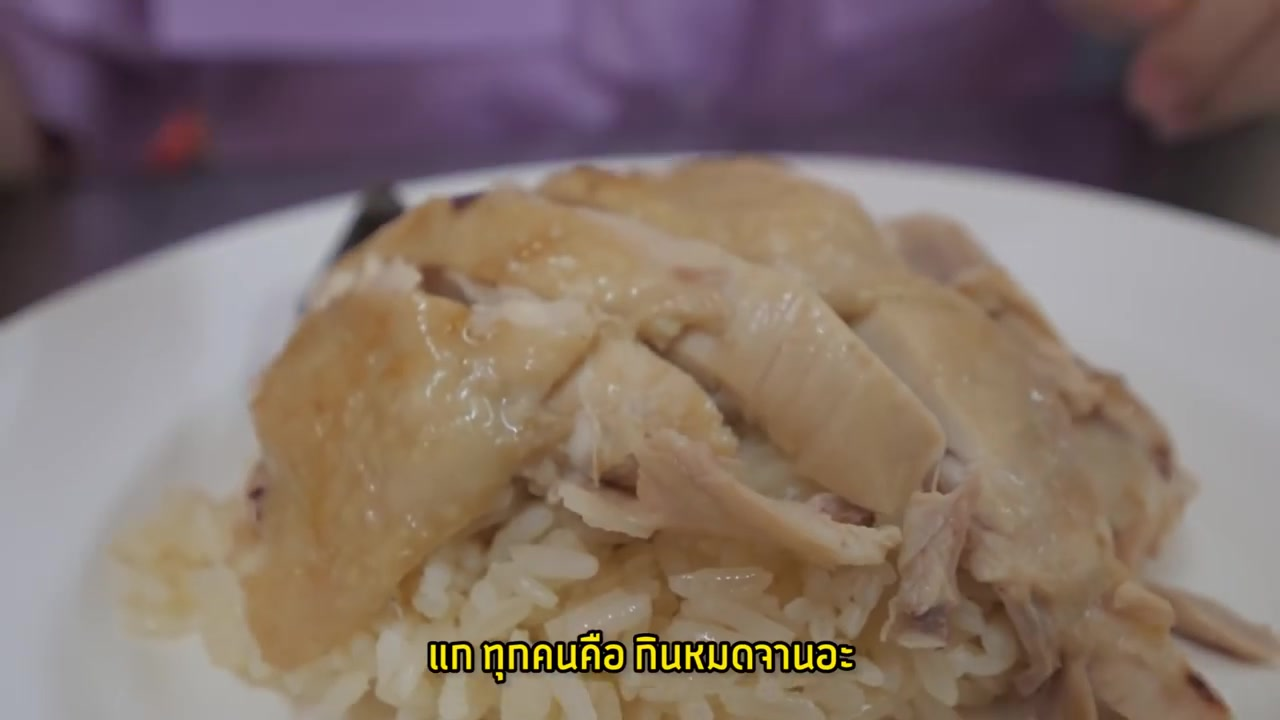text-label: (426, 630, 858, 687)
